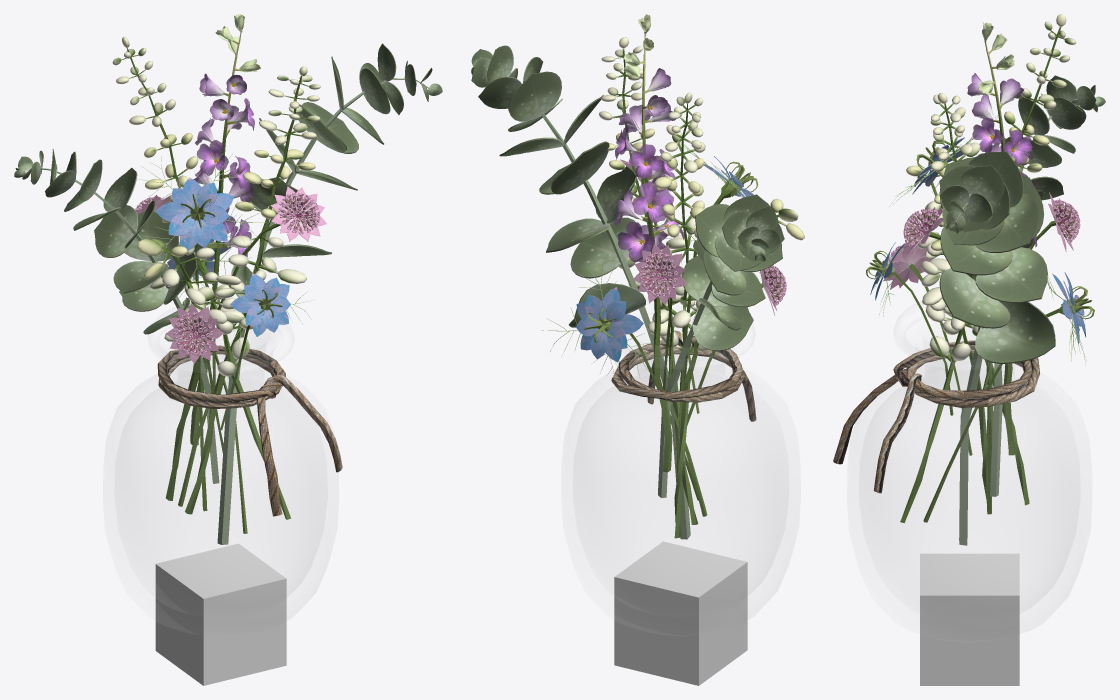
Rendered from flower1.glb.
3 renders of one model, left to right at view 1: azimuth 30°, elevation 25°; view 2: azimuth 150°, elevation 25°; view 3: azimuth 270°, elevation 25°, orthographic. The views are drawn at different scales.
Parts seen in each view (by area): view 1: pointy_bottle, Cube, bbg3_bb29_lambert11_0.001, rope2, bbg3_bb29, bbg3_bb30, eucalyptus1, eucalyptus_leaf_4_lambert8_0.010, larkspur, eucalyptus_leaf_3_lambert8_0.011, eucalyptus_leaf_4_lambert8_0.009, eucalyptus2 (+8 smaller); view 2: pointy_bottle, Cube, bbg3_bb29, rope2, bbg3_bb29_lambert11_0.001, eucalyptus1, eucalyptus_leaf_3, eucalyptus_leaf_3_lambert8_0.004, larkspur, bbg3_bb30, eucalyptus_leaf_2_lambert8_0.001, eucalyptus_leaf_3_lambert8_0.002 (+17 smaller); view 3: pointy_bottle, Cube, rope2, bbg3_bb29, bbg3_bb29_lambert11_0.001, eucalyptus_leaf_2, eucalyptus_leaf_4, eucalyptus_leaf_3, eucalyptus_leaf_4_lambert8_0.002, eucalyptus_leaf_4_lambert8_0.001, eucalyptus1, bbg3_bb30 (+17 smaller).
Part boxes in pixels (box(x1,y1,x2,y2)): pointy_bottle: box(114, 324, 327, 614); Cube: box(155, 543, 286, 685); bbg3_bb29_lambert11_0.001: box(185, 66, 320, 514); rope2: box(157, 345, 342, 516); bbg3_bb29: box(112, 36, 290, 519); bbg3_bb30: box(137, 239, 244, 500); eucalyptus1: box(217, 78, 428, 544); eucalyptus_leaf_4_lambert8_0.010: box(94, 205, 138, 257); larkspur: box(190, 30, 242, 445); eucalyptus_leaf_3_lambert8_0.011: box(124, 211, 178, 261); eucalyptus_leaf_4_lambert8_0.009: box(113, 261, 168, 293); eucalyptus2: box(24, 168, 219, 483); pointy_bottle: box(573, 306, 789, 612); Cube: box(614, 541, 747, 685); bbg3_bb29: box(647, 92, 707, 390); rope2: box(611, 330, 756, 421); bbg3_bb29_lambert11_0.001: box(599, 37, 698, 524); eucalyptus1: box(508, 76, 690, 539); eucalyptus_leaf_3: box(570, 217, 638, 278); eucalyptus_leaf_3_lambert8_0.004: box(508, 71, 561, 121); larkspur: box(635, 31, 672, 472); bbg3_bb30: box(674, 198, 804, 538); eucalyptus_leaf_2_lambert8_0.001: box(692, 305, 753, 350); eucalyptus_leaf_3_lambert8_0.002: box(550, 141, 609, 194); pointy_bottle: box(859, 313, 1080, 618); Cube: box(920, 553, 1019, 685); rope2: box(833, 340, 1039, 493); bbg3_bb29: box(900, 14, 1076, 523); bbg3_bb29_lambert11_0.001: box(921, 93, 988, 502); eucalyptus_leaf_2: box(975, 301, 1055, 363); eucalyptus_leaf_4: box(975, 247, 1047, 303); eucalyptus_leaf_3: box(939, 268, 1010, 328); eucalyptus_leaf_4_lambert8_0.002: box(975, 193, 1038, 252); eucalyptus_leaf_4_lambert8_0.001: box(940, 226, 1012, 275); eucalyptus1: box(956, 203, 983, 545); bbg3_bb30: box(906, 147, 1029, 505).
Bounding box in the file's own units: 8.6 × 14.53 × 5.48.
Materials: 22 (17 with a texture image).
